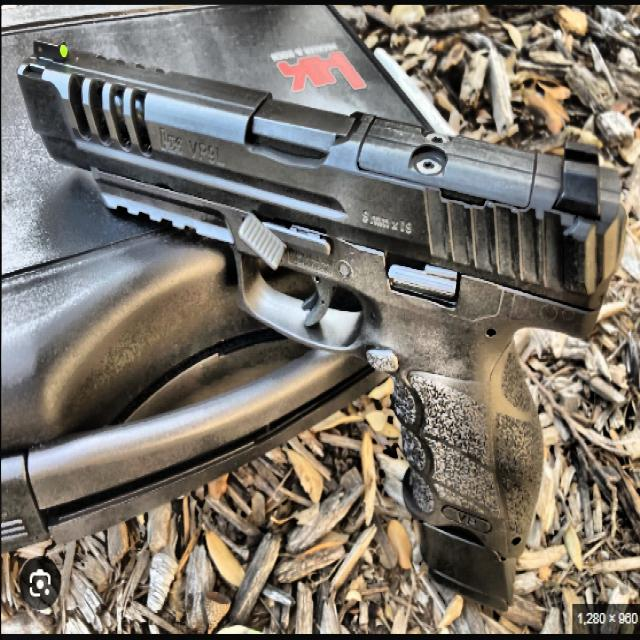HKVP9: (12, 12, 628, 611)
